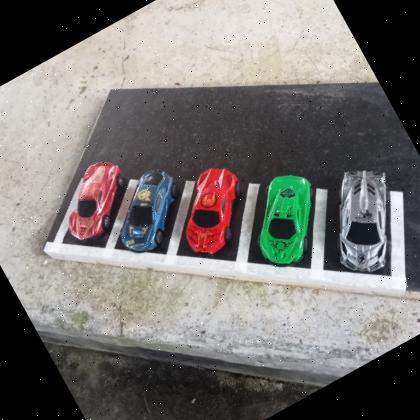Car: (302, 153, 420, 285), (232, 163, 342, 276), (161, 159, 264, 263), (98, 162, 200, 260), (46, 152, 144, 248)
